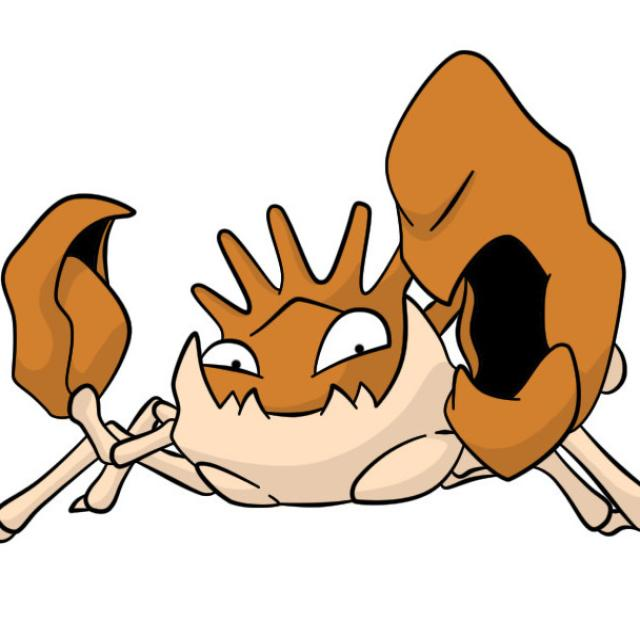Kingler: (24, 151, 640, 559)
